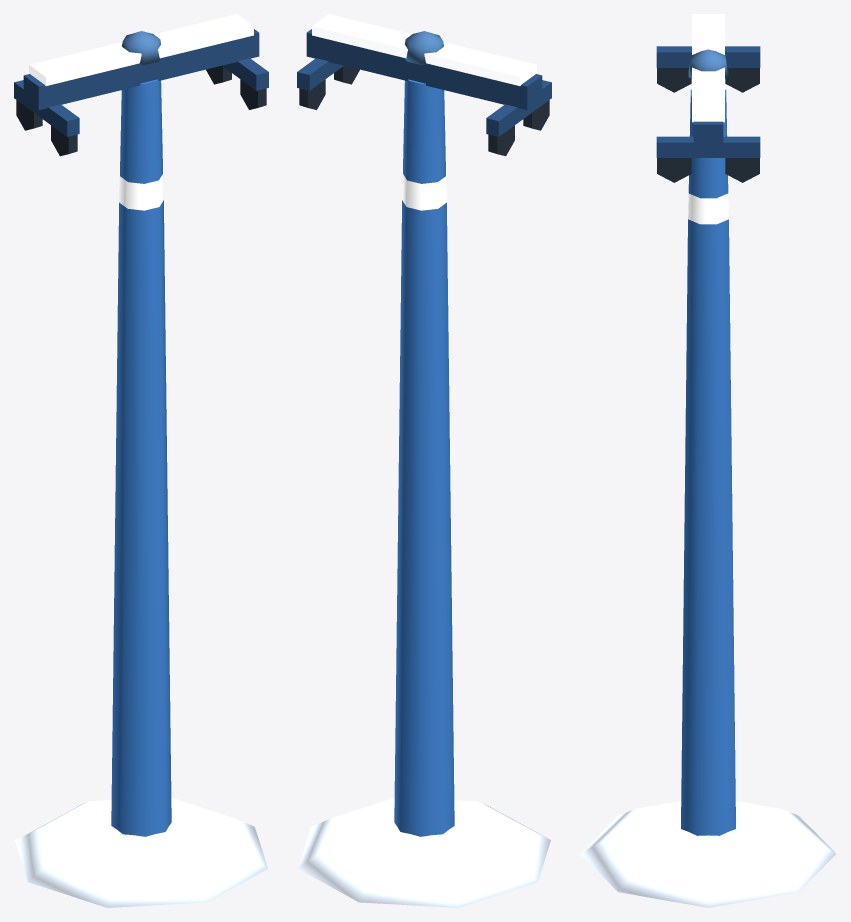
File: ski-lift-tower.glb
The picture shows the model from 3 angles, left to right: view 1: azimuth 30°, elevation 25°; view 2: azimuth 150°, elevation 25°; view 3: azimuth 270°, elevation 25°; orthographic projection. The views are drawn at different scales.
Visible parts, largest first — view 1: ski-lift-tower; view 2: ski-lift-tower; view 3: ski-lift-tower.
Boxes of the visible parts, bbox=[...] form: ski-lift-tower: bbox=[14, 14, 268, 907]; ski-lift-tower: bbox=[297, 14, 551, 907]; ski-lift-tower: bbox=[581, 14, 835, 907].
Bounding box in the file's own units: 3.6 × 12.48 × 3.6.
